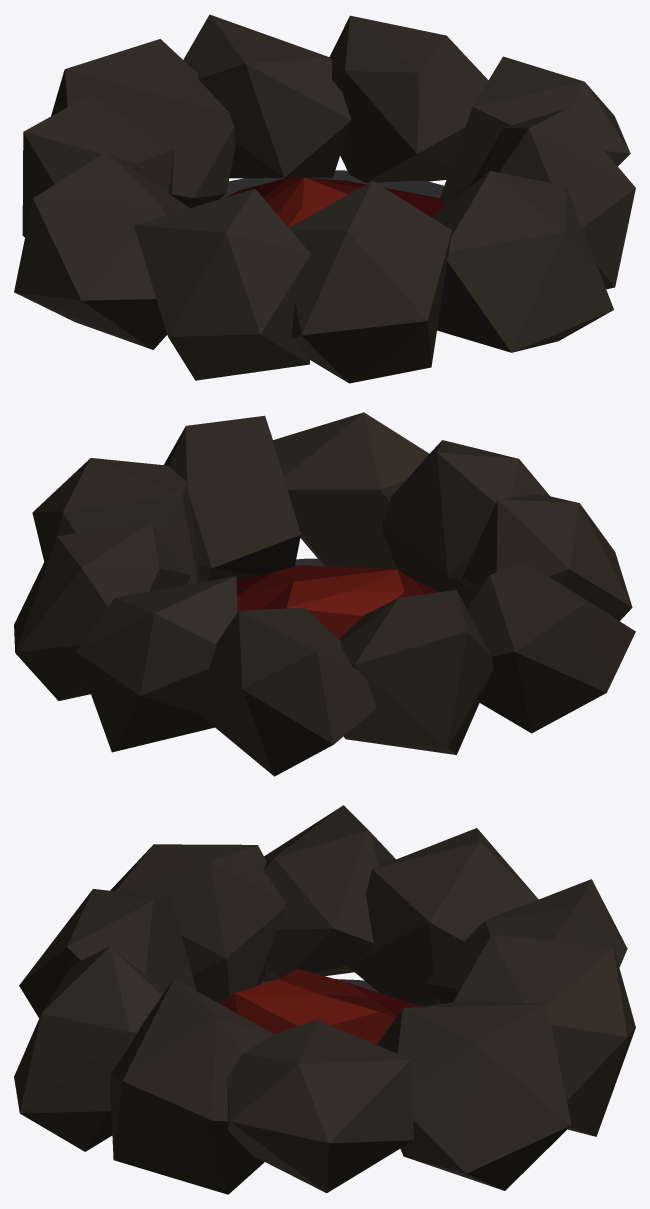
Rendered from fireplace.obj.
The picture shows the model from 3 angles, top to bottom: view 1: azimuth 30°, elevation 25°; view 2: azimuth 150°, elevation 25°; view 3: azimuth 270°, elevation 25°; orthographic projection. The views are drawn at different scales.
Visible parts, largest first — view 1: Stone.006_Icosphere.005, Stone.007_Icosphere.006, Stone.010_Icosphere.009, Stone.004_Icosphere.003, Stone.002_Icosphere.001, Stone.003_Icosphere.002, Stone.009_Icosphere.008, Stone.001_Icosphere, Stone.005_Icosphere.004, Stone.008_Icosphere.007, Fire.001_Icosphere.011, Ash_Circle; view 2: Stone.009_Icosphere.008, Stone.003_Icosphere.002, Stone.004_Icosphere.003, Stone.008_Icosphere.007, Stone.001_Icosphere, Stone.010_Icosphere.009, Stone.002_Icosphere.001, Stone.006_Icosphere.005, Stone.007_Icosphere.006, Stone.005_Icosphere.004, Fire.001_Icosphere.011; view 3: Stone.002_Icosphere.001, Stone.005_Icosphere.004, Stone.001_Icosphere, Stone.008_Icosphere.007, Stone.010_Icosphere.009, Stone.003_Icosphere.002, Stone.007_Icosphere.006, Stone.004_Icosphere.003, Stone.006_Icosphere.005, Fire.001_Icosphere.011, Stone.009_Icosphere.008.
Part boxes in pixels (bbox=[...]): Stone.006_Icosphere.005: bbox=[289, 181, 451, 383]; Stone.007_Icosphere.006: bbox=[134, 188, 310, 380]; Stone.010_Icosphere.009: bbox=[431, 171, 613, 352]; Stone.004_Icosphere.003: bbox=[14, 151, 189, 349]; Stone.002_Icosphere.001: bbox=[329, 15, 488, 182]; Stone.003_Icosphere.002: bbox=[183, 14, 351, 178]; Stone.009_Icosphere.008: bbox=[51, 39, 235, 208]; Stone.001_Icosphere: bbox=[470, 108, 635, 289]; Stone.005_Icosphere.004: bbox=[440, 56, 630, 205]; Stone.008_Icosphere.007: bbox=[22, 94, 174, 237]; Fire.001_Icosphere.011: bbox=[224, 177, 445, 227]; Ash_Circle: bbox=[219, 170, 444, 199]; Stone.009_Icosphere.008: bbox=[188, 608, 376, 776]; Stone.003_Icosphere.002: bbox=[76, 576, 237, 752]; Stone.004_Icosphere.003: bbox=[459, 562, 635, 733]; Stone.008_Icosphere.007: bbox=[339, 590, 493, 754]; Stone.001_Icosphere: bbox=[164, 415, 300, 582]; Stone.010_Icosphere.009: bbox=[273, 412, 429, 569]; Stone.002_Icosphere.001: bbox=[14, 522, 190, 700]; Stone.006_Icosphere.005: bbox=[382, 440, 549, 594]; Stone.007_Icosphere.006: bbox=[462, 493, 632, 620]; Stone.005_Icosphere.004: bbox=[32, 458, 200, 584]; Fire.001_Icosphere.011: bbox=[236, 565, 438, 638]; Stone.002_Icosphere.001: bbox=[377, 1000, 571, 1190]; Stone.005_Icosphere.004: bbox=[227, 1020, 413, 1193]; Stone.001_Icosphere: bbox=[110, 979, 273, 1194]; Stone.008_Icosphere.007: bbox=[348, 828, 538, 1005]; Stone.010_Icosphere.009: bbox=[14, 946, 163, 1151]; Stone.003_Icosphere.002: bbox=[453, 934, 635, 1136]; Stone.007_Icosphere.006: bbox=[110, 844, 285, 1003]; Stone.004_Icosphere.003: bbox=[262, 805, 395, 981]; Stone.006_Icosphere.005: bbox=[19, 889, 196, 1017]; Fire.001_Icosphere.011: bbox=[220, 968, 420, 1044]; Stone.009_Icosphere.008: bbox=[424, 879, 627, 1003].
Bounding box in the file's own units: 5.99 × 1.85 × 5.34.
